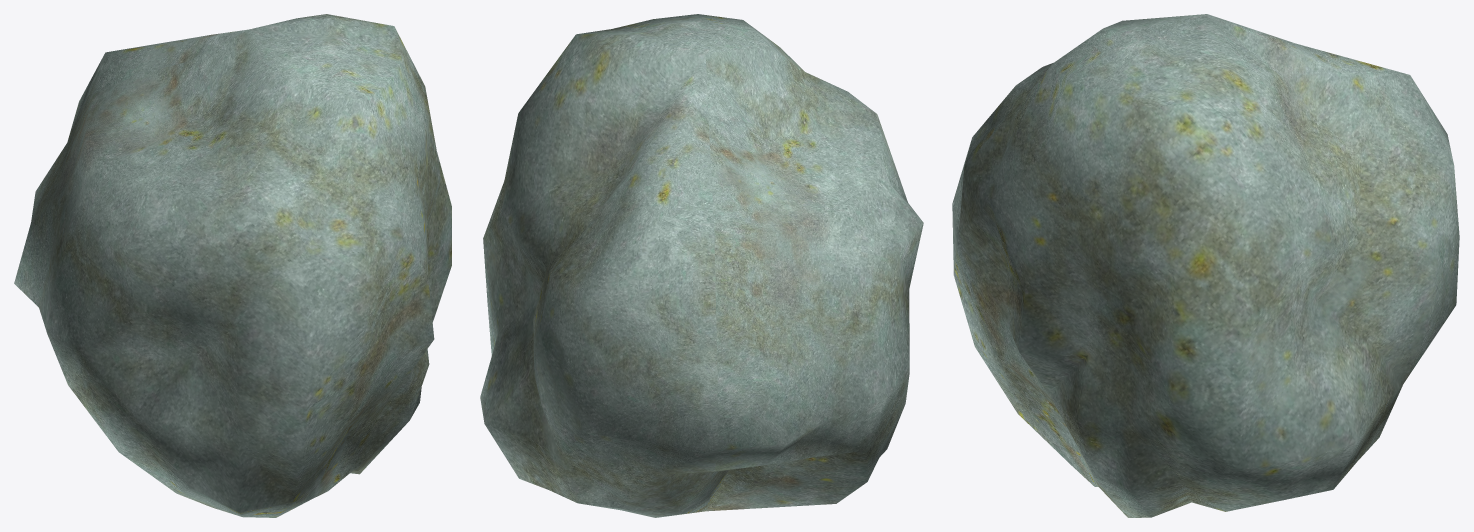
The model's file is Rock_prueba.fbx.
The picture shows the model from 3 angles, left to right: view 1: azimuth 30°, elevation 25°; view 2: azimuth 150°, elevation 25°; view 3: azimuth 270°, elevation 25°; orthographic projection. The views are drawn at different scales.
Parts seen in each view (by area): view 1: Stone_Pack1_Stone_1:Stone_1_LOD1; view 2: Stone_Pack1_Stone_1:Stone_1_LOD1; view 3: Stone_Pack1_Stone_1:Stone_1_LOD1.
Part boxes in pixels (box(x1,y1,x2,y2)): Stone_Pack1_Stone_1:Stone_1_LOD1: box(14, 14, 451, 517); Stone_Pack1_Stone_1:Stone_1_LOD1: box(480, 14, 923, 517); Stone_Pack1_Stone_1:Stone_1_LOD1: box(952, 14, 1459, 517).
Bounding box in the file's own units: 42.94 × 47.44 × 46.33.
Materials: 1 (1 with a texture image).
